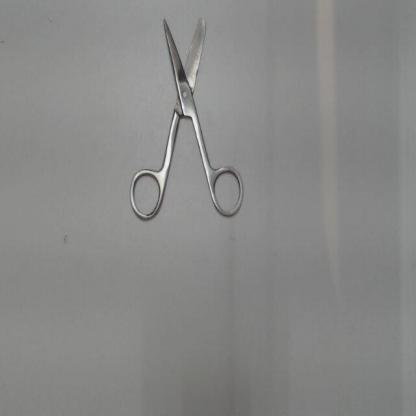Dressing Scissors: (124, 4, 250, 230)
